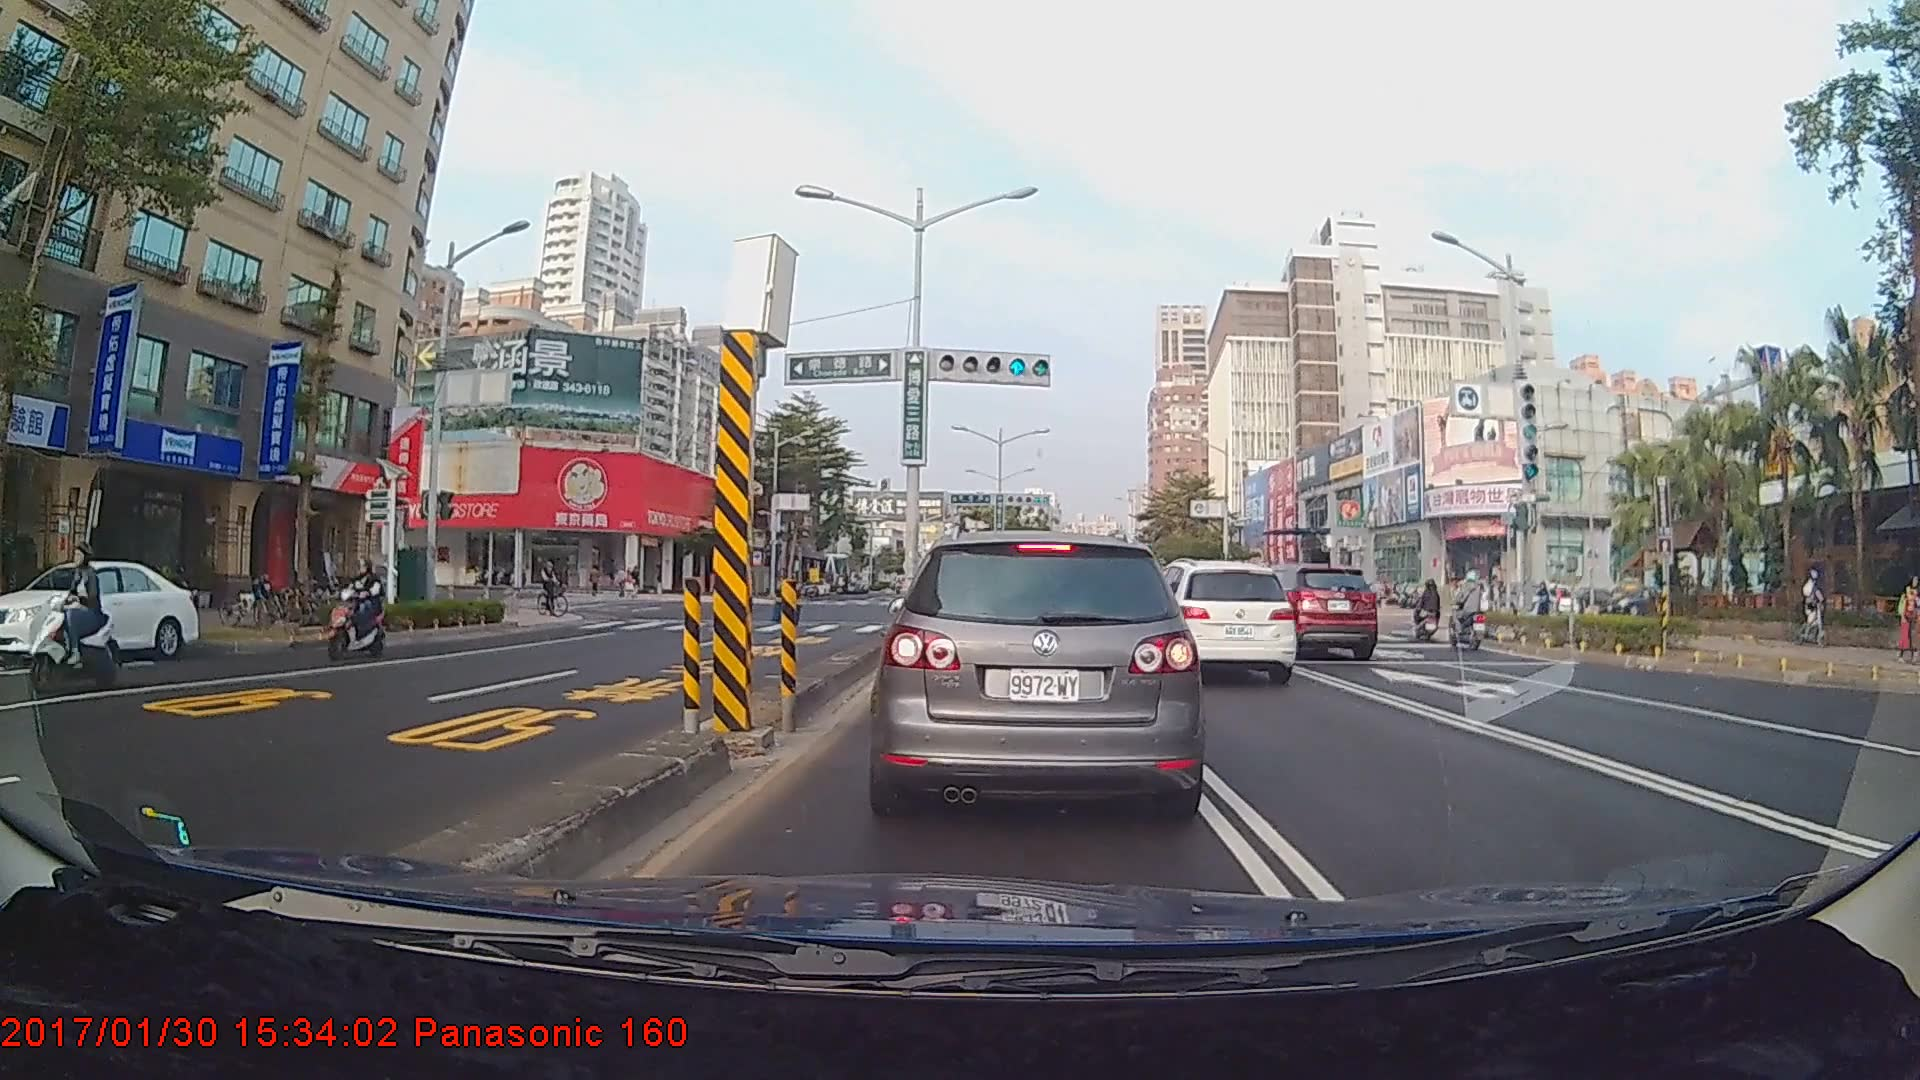pedestrian: (1896, 573, 1920, 665)
rider: (28, 545, 127, 696), (316, 556, 386, 664), (1444, 567, 1495, 651), (1788, 563, 1835, 651), (1413, 574, 1445, 646), (538, 559, 577, 615)
vehicle: (879, 528, 1198, 819), (2, 559, 199, 667), (1135, 557, 1296, 686), (1251, 564, 1378, 662)
